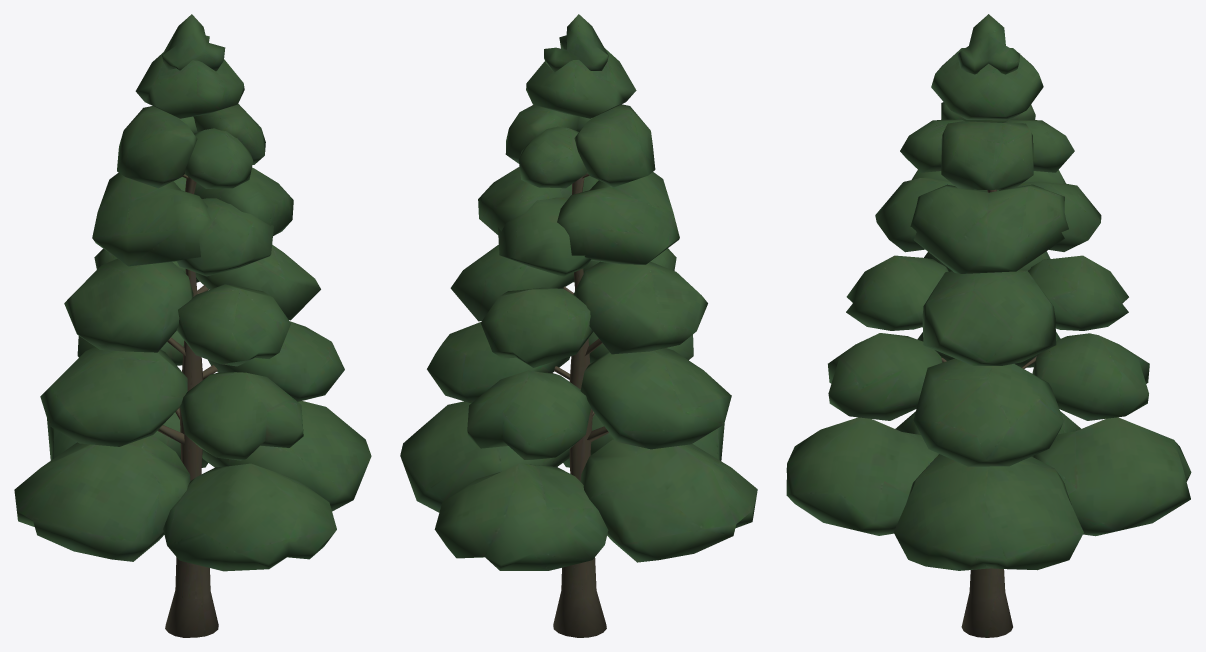
Rendered from pine_mid.glb.
3 renders of one model, left to right at view 1: azimuth 30°, elevation 25°; view 2: azimuth 150°, elevation 25°; view 3: azimuth 270°, elevation 25°, orthographic.
Visible parts, largest first — view 1: geometry_0; view 2: geometry_0; view 3: geometry_0.
Boxes of the visible parts, x1=… form: geometry_0: x1=14, y1=14, x2=371, y2=637; geometry_0: x1=400, y1=14, x2=757, y2=637; geometry_0: x1=786, y1=14, x2=1191, y2=637.
Size of the model in its own units: 0.5687 by 1 by 0.599.
1 material, 1 textured.
